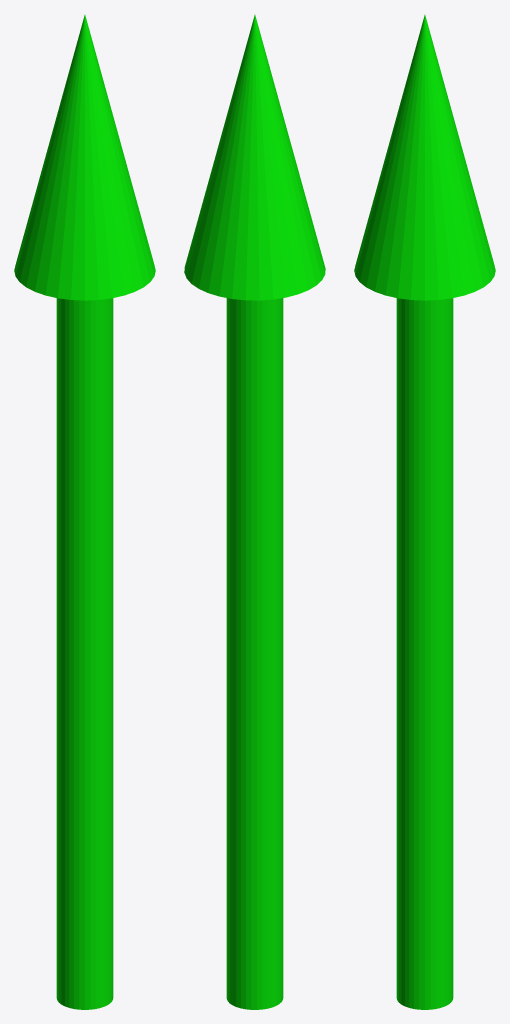
File: arrow.glb
The picture shows the model from 3 angles, left to right: view 1: azimuth 90°, elevation 25°; view 2: azimuth 150°, elevation 25°; view 3: azimuth 270°, elevation 25°; orthographic projection.
Parts seen in each view (by area): view 1: Cylinder, Cone; view 2: Cylinder, Cone; view 3: Cylinder, Cone.
Boxes of the visible parts, box(x1,y1,x2,y2) form: Cylinder: box(56, 298, 113, 1009); Cone: box(14, 15, 155, 300); Cylinder: box(226, 298, 283, 1009); Cone: box(184, 15, 325, 300); Cylinder: box(396, 298, 453, 1009); Cone: box(354, 15, 495, 300).
Bounding box in the file's own units: 0.3 × 2.3 × 0.3.
